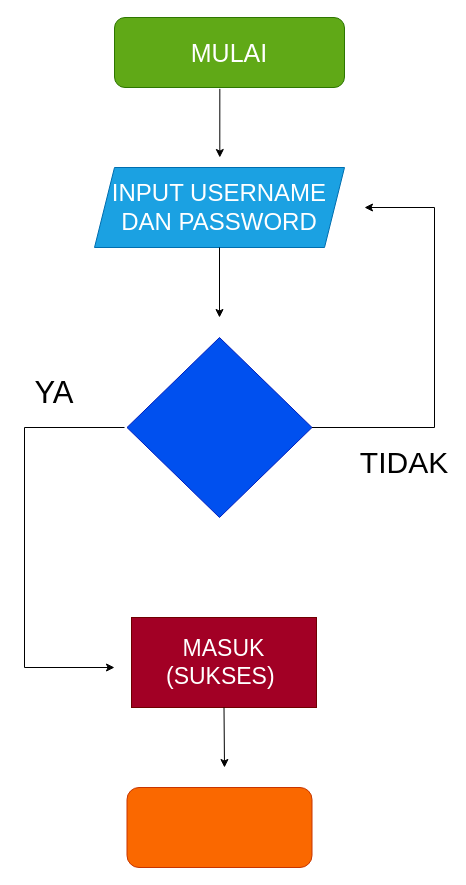
Some shapes in this 466 by 885 pixel diagram are drawn without their labels. Each missing label, with the centre of its shape:
"APAKAH PASSWORD BENAR" belongs at (x=219, y=427).
"selesai" belongs at (x=219, y=827).
